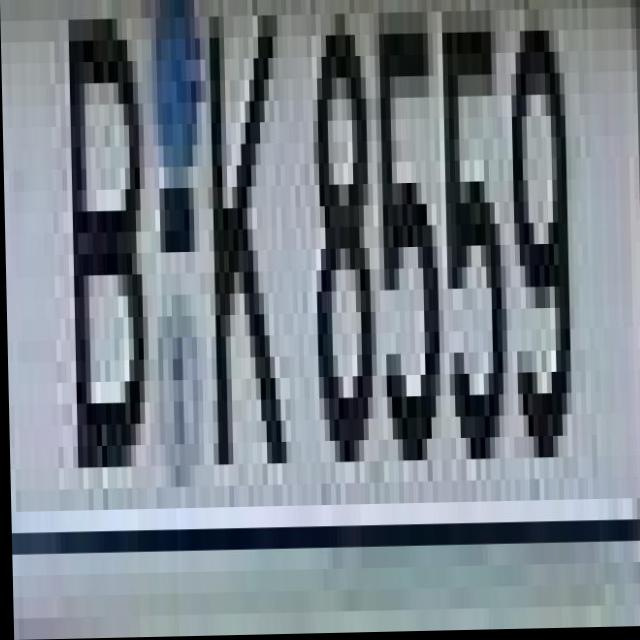5: (374, 35, 445, 484), (442, 13, 503, 462)
8: (301, 15, 377, 464)
9: (499, 0, 581, 503)
B: (63, 19, 159, 468)
K: (204, 38, 290, 487)
